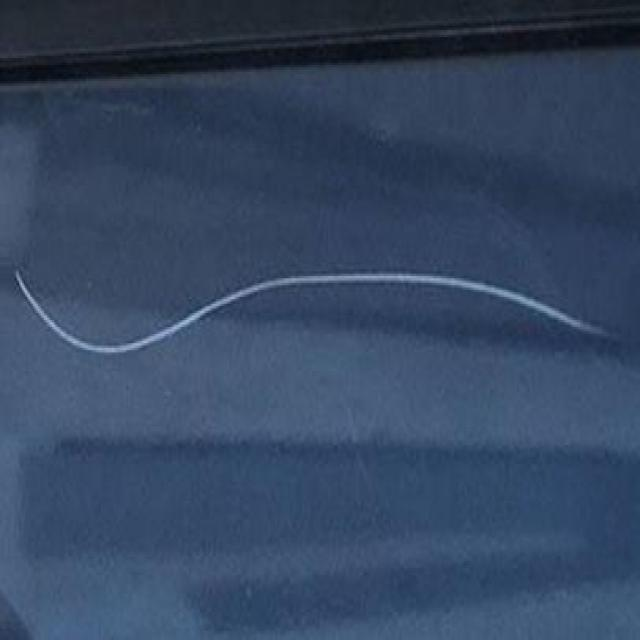scratch: (8, 252, 620, 364)
